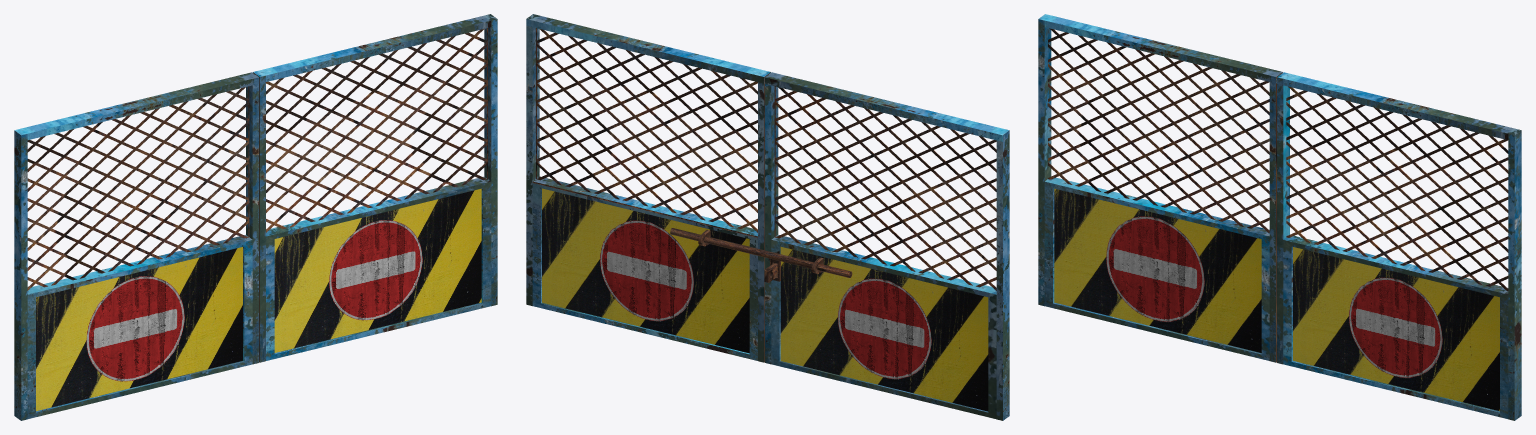
3 views of the same model, side by side, from view 1: azimuth 30°, elevation 25°; view 2: azimuth 150°, elevation 25°; view 3: azimuth 330°, elevation 25° (orthographic).
Visible parts, largest first — view 1: Cube.001, Cube, 平面, 平面.001, 立方体, 立方体.003, 立方体.002, 立方体.004, 立方体.001, 立方体.005; view 2: Cube.001, Cube, 平面, 平面.001, 立方体, 立方体.003, 立方体.002, 立方体.004, 立方体.001, 立方体.005, 円柱; view 3: Cube, Cube.001, 平面.001, 平面, 立方体.004, 立方体.003, 立方体.002, 立方体, 立方体.005, 立方体.001.
Part boxes in pixels (x1=…): Cube.001: x1=266, y1=176, x2=491, y2=360; Cube: x1=27, y1=235, x2=252, y2=418; 平面: x1=27, y1=86, x2=249, y2=290; 平面.001: x1=266, y1=28, x2=487, y2=232; 立方体: x1=14, y1=130, x2=27, y2=420; 立方体.003: x1=253, y1=14, x2=496, y2=81; 立方体.002: x1=14, y1=72, x2=258, y2=139; 立方体.004: x1=484, y1=19, x2=497, y2=306; 立方体.001: x1=246, y1=77, x2=258, y2=364; 立方体.005: x1=253, y1=72, x2=265, y2=362; Cube.001: x1=532, y1=176, x2=757, y2=360; Cube: x1=771, y1=234, x2=996, y2=419; 平面: x1=774, y1=86, x2=996, y2=290; 平面.001: x1=536, y1=28, x2=757, y2=232; 立方体: x1=996, y1=130, x2=1009, y2=420; 立方体.003: x1=526, y1=14, x2=770, y2=83; 立方体.002: x1=765, y1=72, x2=1008, y2=141; 立方体.004: x1=526, y1=25, x2=539, y2=305; 立方体.001: x1=765, y1=84, x2=778, y2=364; 立方体.005: x1=758, y1=72, x2=770, y2=362; 円柱: x1=670, y1=228, x2=852, y2=277; Cube: x1=1044, y1=177, x2=1269, y2=360; Cube.001: x1=1283, y1=236, x2=1508, y2=418; 平面.001: x1=1286, y1=86, x2=1508, y2=291; 平面: x1=1048, y1=28, x2=1269, y2=232; 立方体.004: x1=1508, y1=134, x2=1521, y2=420; 立方体.003: x1=1277, y1=72, x2=1521, y2=141; 立方体.002: x1=1039, y1=14, x2=1282, y2=83; 立方体: x1=1038, y1=19, x2=1051, y2=306; 立方体.005: x1=1277, y1=77, x2=1289, y2=364; 立方体.001: x1=1269, y1=75, x2=1276, y2=362.
Size of the model in its own units: 800 by 55.56 by 458.
2 materials, 2 textured.
